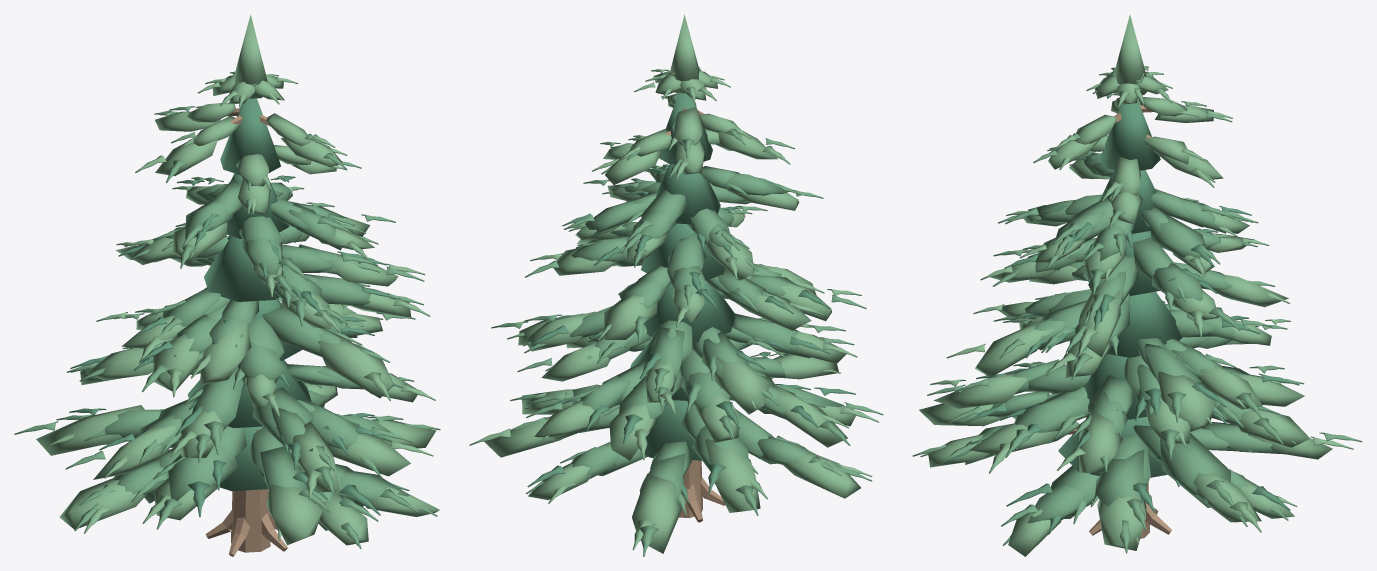
The model's file is Pine_4.gltf.
3 renders of one model, left to right at view 1: azimuth 30°, elevation 25°; view 2: azimuth 150°, elevation 25°; view 3: azimuth 270°, elevation 25°, orthographic. The views are drawn at different scales.
Parts seen in each view (by area): view 1: Pine_4; view 2: Pine_4; view 3: Pine_4.
Part boxes in pixels (x1,y1,x2,y2): Pine_4: (14,14,440,556); Pine_4: (469,14,883,556); Pine_4: (912,14,1362,556).
Size of the model in its own units: 3.38 by 4.55 by 3.58.
